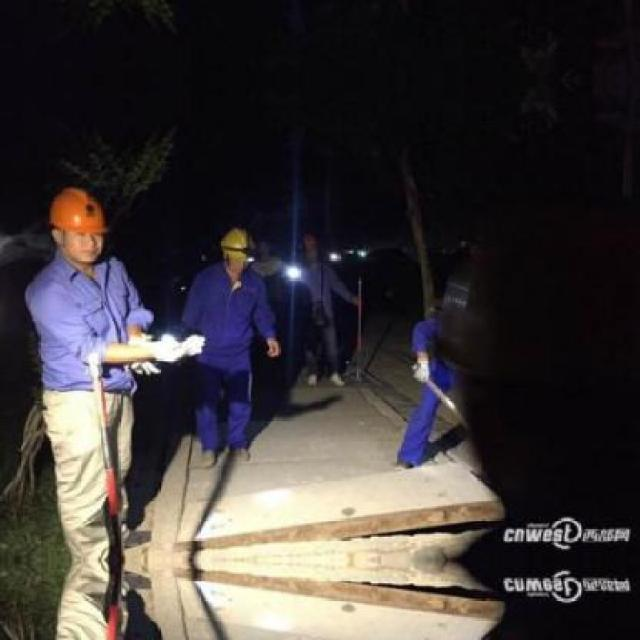helmet: (45, 182, 109, 264), (217, 225, 254, 277)
